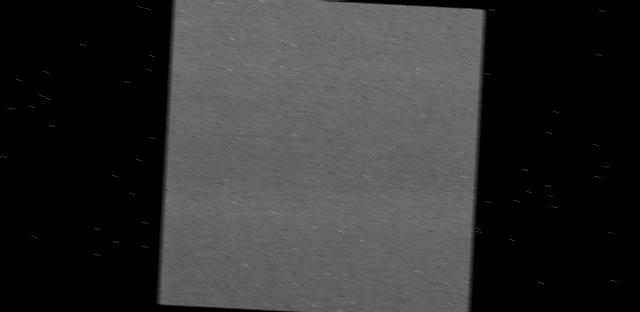inclusion: (234, 0, 314, 15)
